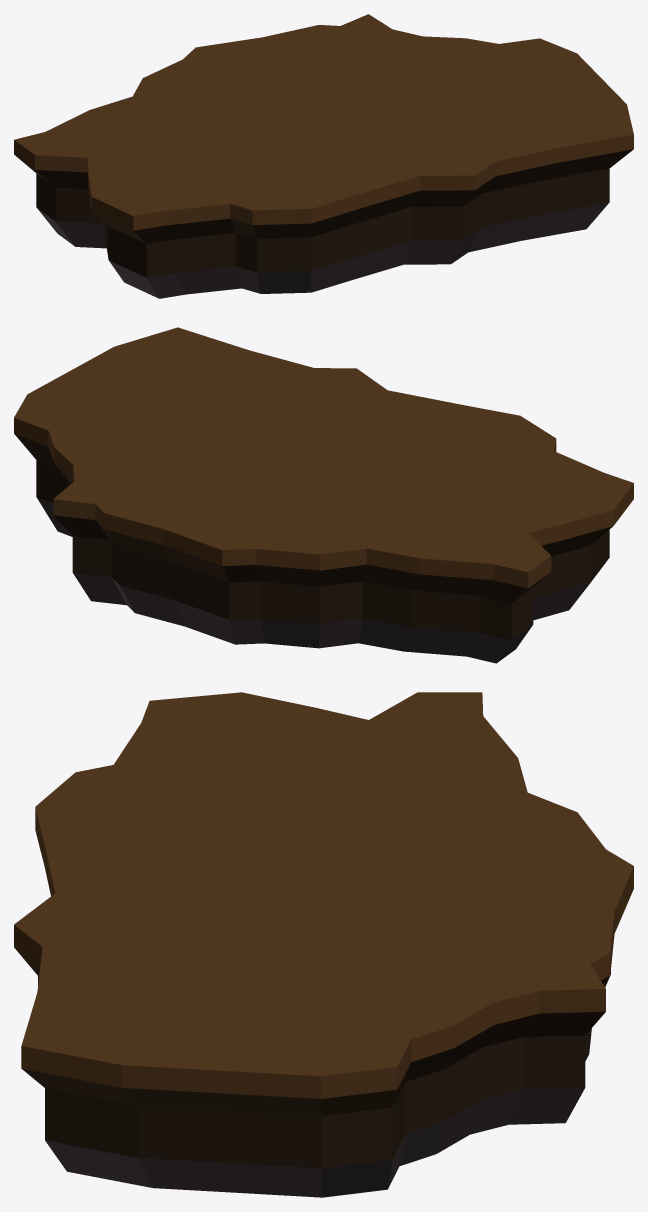
The model's file is ground.glb.
The picture shows the model from 3 angles, top to bottom: view 1: azimuth 30°, elevation 25°; view 2: azimuth 150°, elevation 25°; view 3: azimuth 270°, elevation 25°; orthographic projection. The views are drawn at different scales.
Parts seen in each view (by area): view 1: Plane; view 2: Plane; view 3: Plane.
Boxes of the visible parts, bbox=[...] form: Plane: bbox=[14, 14, 633, 298]; Plane: bbox=[14, 327, 633, 663]; Plane: bbox=[14, 692, 633, 1197].
Bounding box in the file's own units: 32.15 × 5.87 × 21.93.
